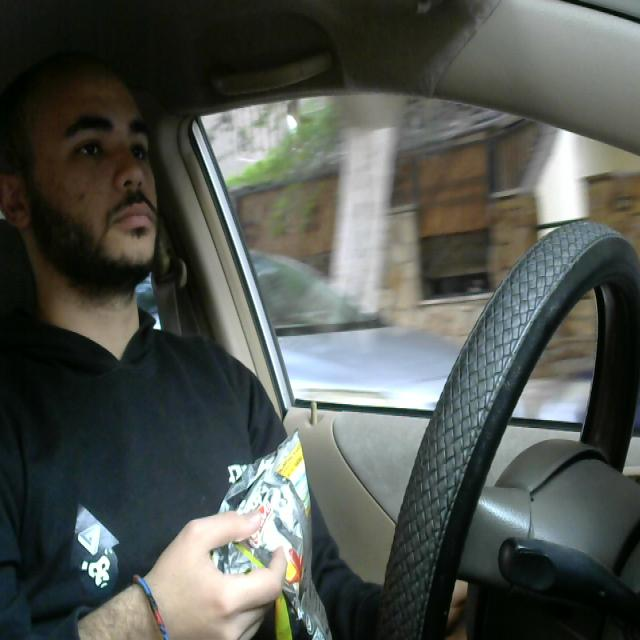eating: (208, 426, 336, 640)
